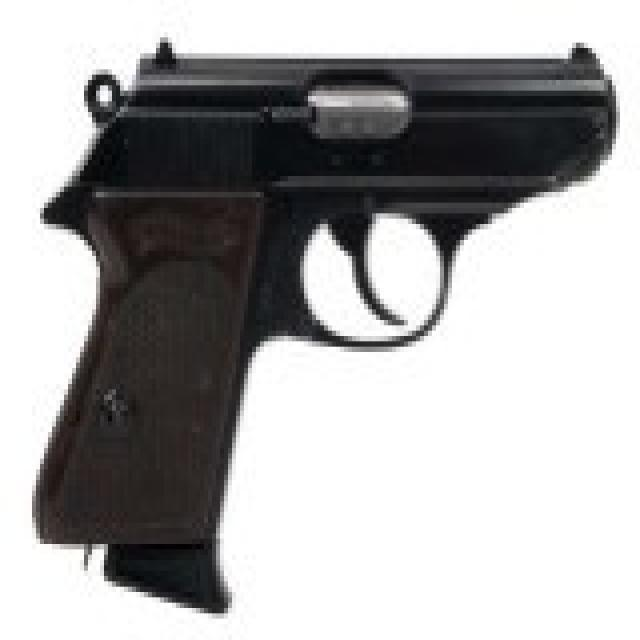Gun: (24, 40, 625, 585)
